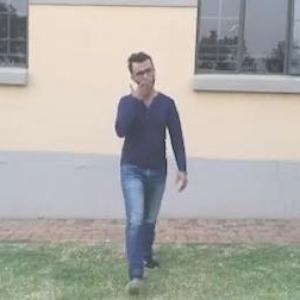follow: (108, 52, 174, 262)
